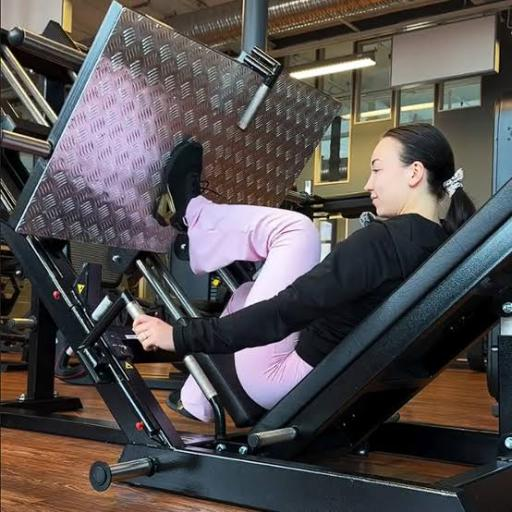Leg Press: (4, 8, 512, 480)
